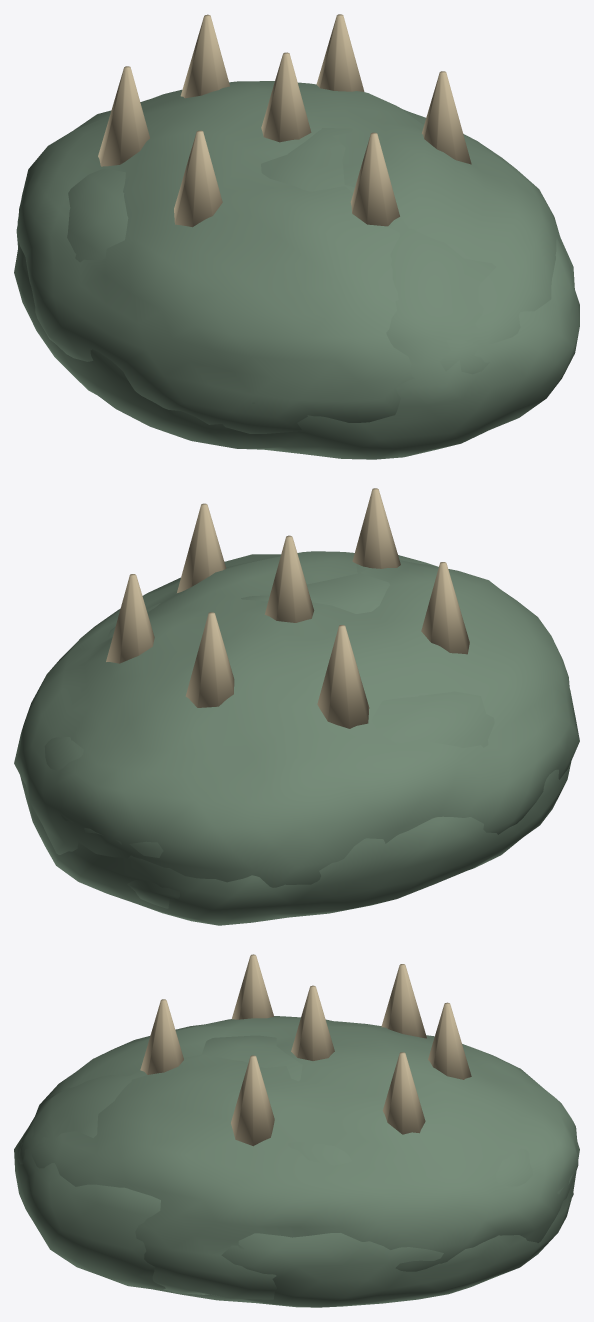
Rendered from beetle-shells.fbx.
The picture shows the model from 3 angles, top to bottom: view 1: azimuth 30°, elevation 25°; view 2: azimuth 150°, elevation 25°; view 3: azimuth 270°, elevation 25°; orthographic projection. The views are drawn at different scales.
Visible parts, largest first — view 1: ShellSpiked, ShellRound; view 2: ShellSpiked, ShellRound; view 3: ShellSpiked, ShellRound.
Part boxes in pixels (x1,y1,x2,y2): ShellSpiked: (17,14,574,433); ShellRound: (14,122,579,459); ShellSpiked: (14,488,579,908); ShellRound: (20,555,571,925); ShellSpiked: (18,954,578,1299); ShellRound: (14,1021,579,1307).
Bounding box in the file's own units: 0.3048 × 0.1769 × 0.3792.
